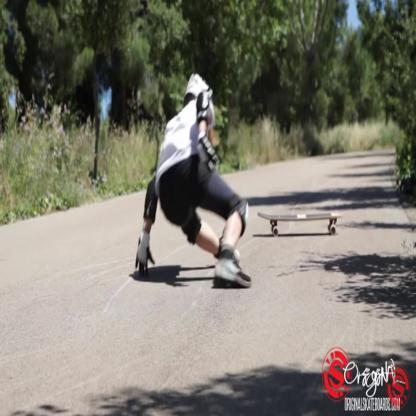Fall_Down: (135, 74, 254, 291)
